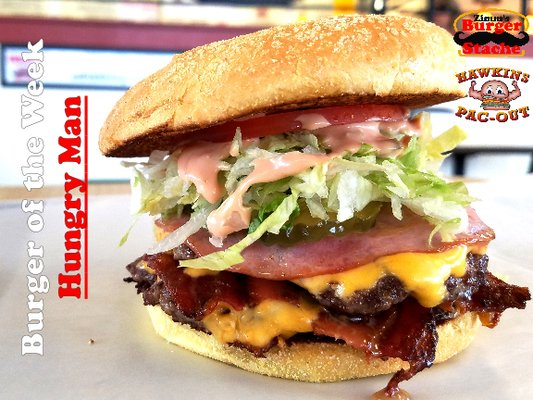soup: (106, 10, 523, 390)
